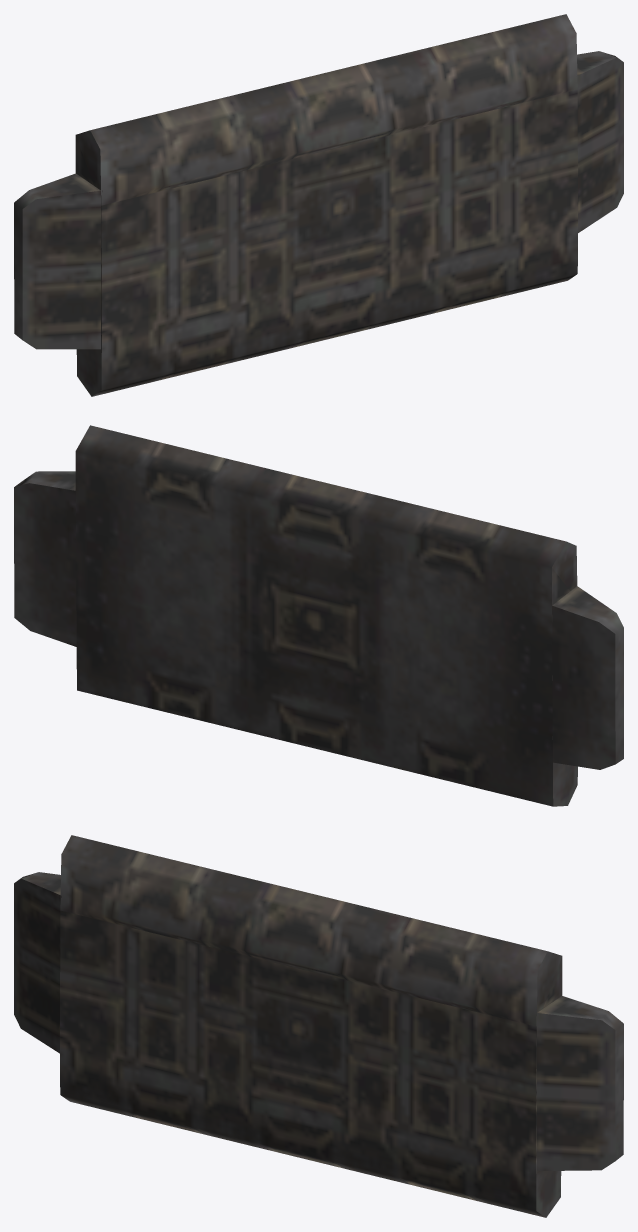
3 renders of one model, top to bottom at view 1: azimuth 30°, elevation 25°; view 2: azimuth 150°, elevation 25°; view 3: azimuth 330°, elevation 25°, orthographic.
Parts seen in each view (by area): view 1: set_0_group_0; view 2: set_0_group_0; view 3: set_0_group_0.
Part boxes in pixels (x1,y1,x2,y2): set_0_group_0: (14, 14, 623, 396); set_0_group_0: (14, 425, 623, 806); set_0_group_0: (14, 835, 623, 1217).
Bounding box in the file's own units: 0.4895 × 0.2066 × 0.0448.
Materials: 1 (1 with a texture image).
